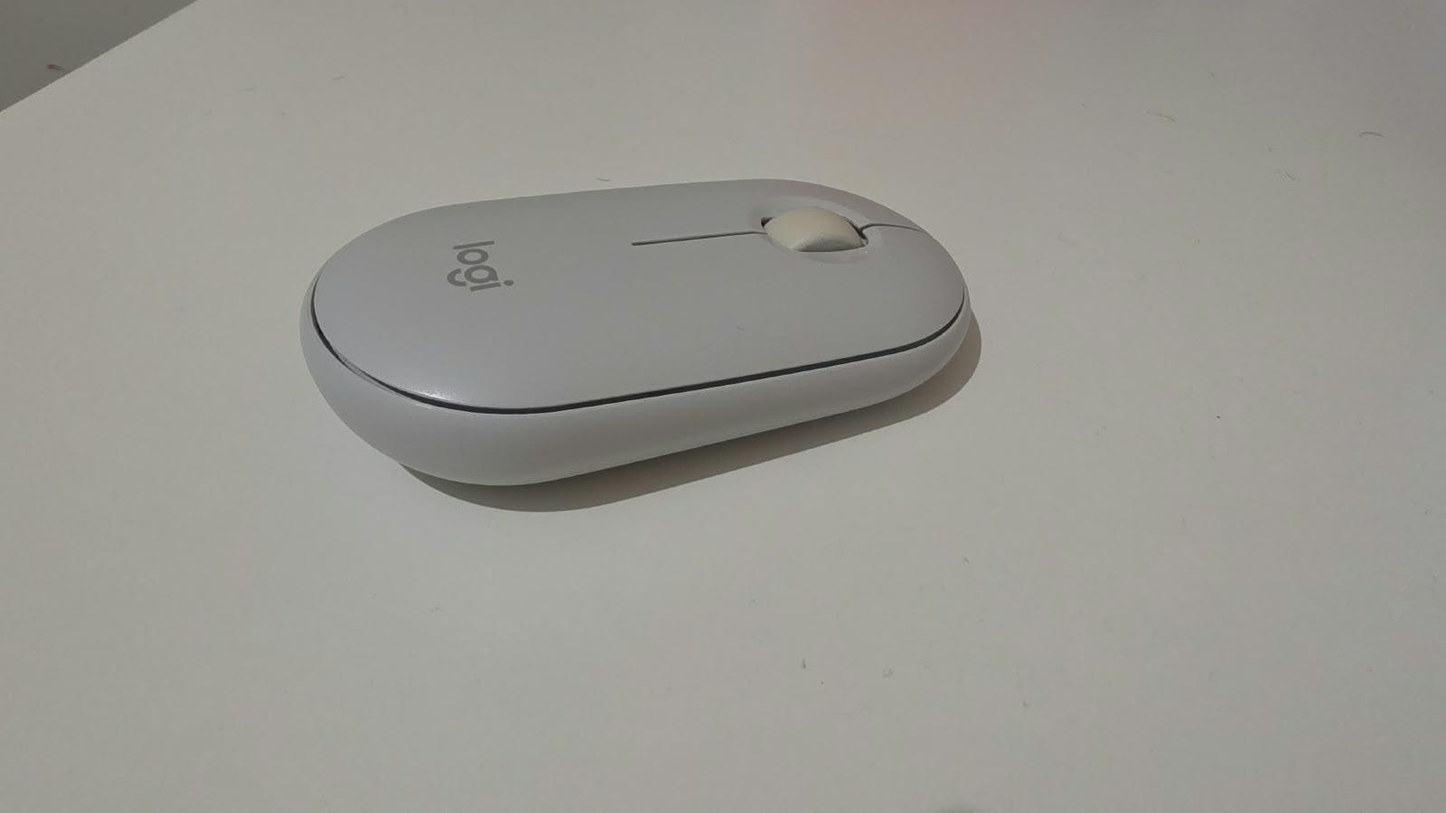mouse: (299, 179, 971, 487)
